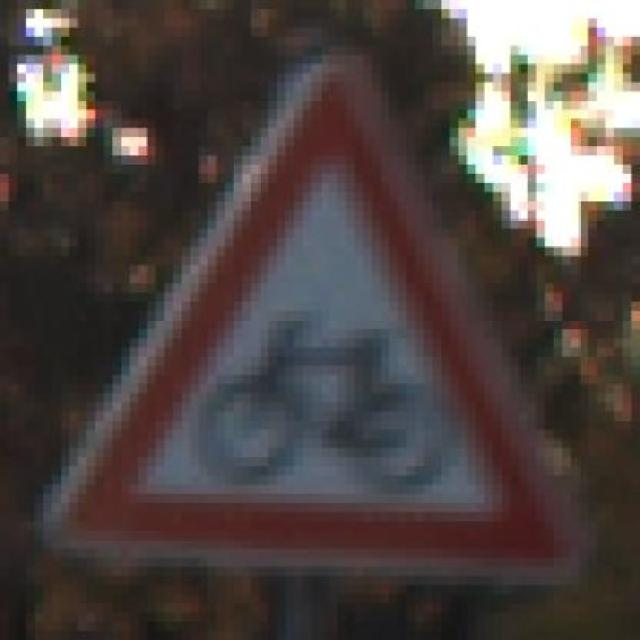CYCLE ROUTE AHEAD WARNING: (51, 18, 562, 585)
